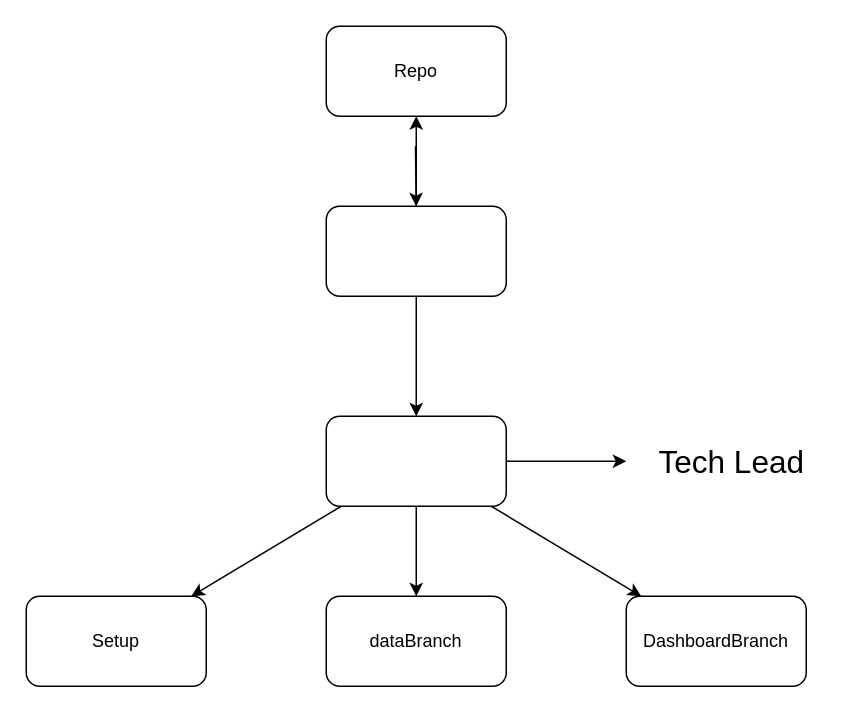
Some shapes in this 848 by 713 pixel diagram are drawn without their labels. The shapes that lost their labels are listed below. From the top down, each one's centre as x and y in pixels, then its label:
At point (415, 250): "Main".
At point (415, 460): "Dev".
